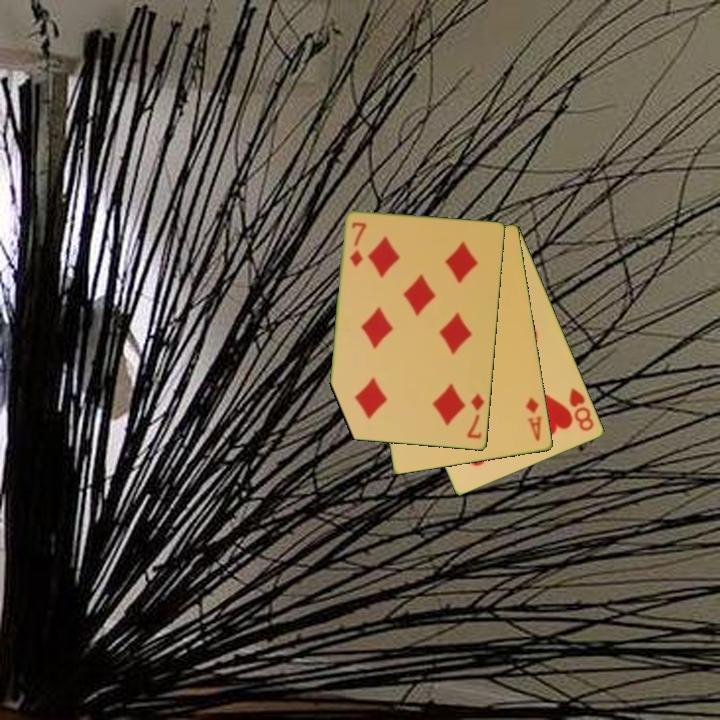7d: (464, 390, 487, 442), (347, 219, 369, 270)
8h: (566, 385, 597, 434)
Ad: (522, 394, 545, 444)
